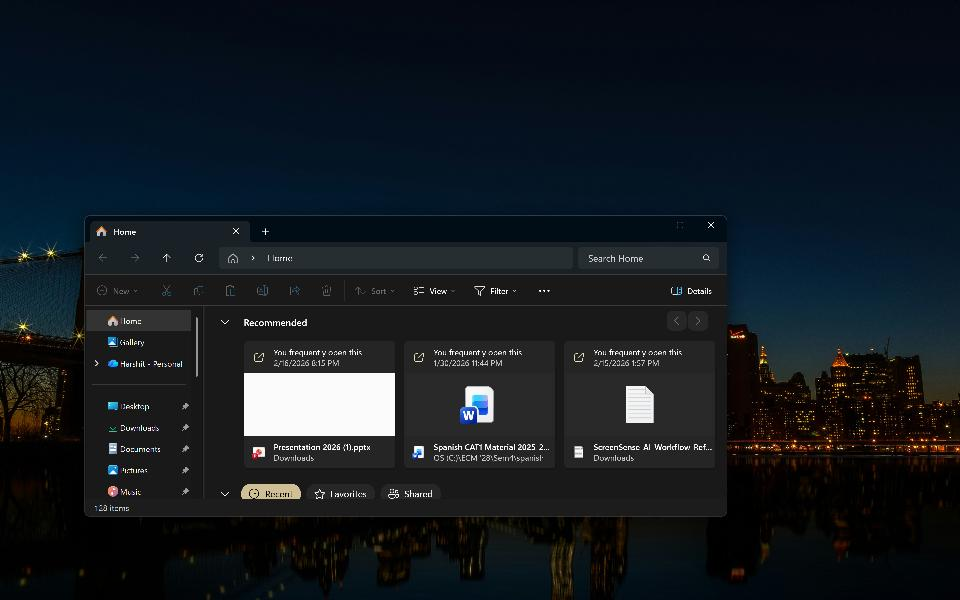close_button: (699, 217, 722, 237)
maximize_button: (669, 217, 691, 238)
minimize_button: (639, 217, 660, 238)
